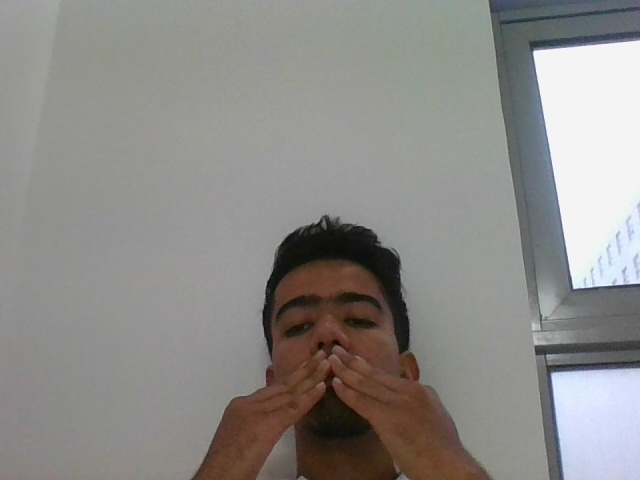thankyou: (203, 344, 462, 455)
